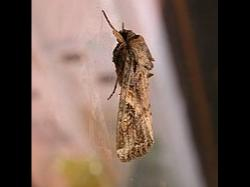army worm adult: (101, 9, 156, 163)
